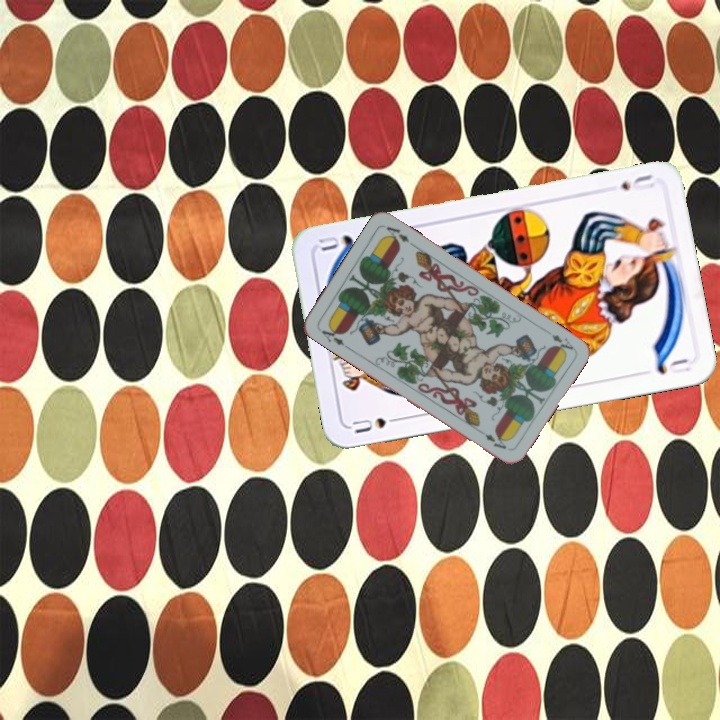EA: (317, 321, 347, 348), (548, 330, 576, 356)
SU: (348, 412, 406, 436), (617, 170, 657, 194)
